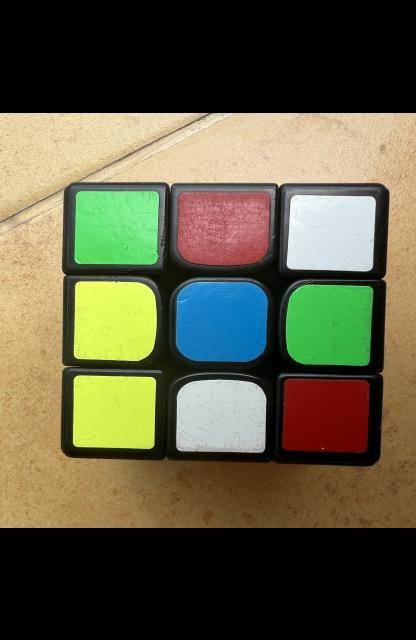Blue: (176, 281, 268, 361)
Green: (286, 283, 373, 364), (74, 190, 159, 264)
Red: (177, 191, 270, 265), (282, 378, 369, 452)
White: (287, 194, 376, 270), (176, 378, 267, 452)
Yellow: (73, 280, 157, 360), (73, 374, 157, 448)
